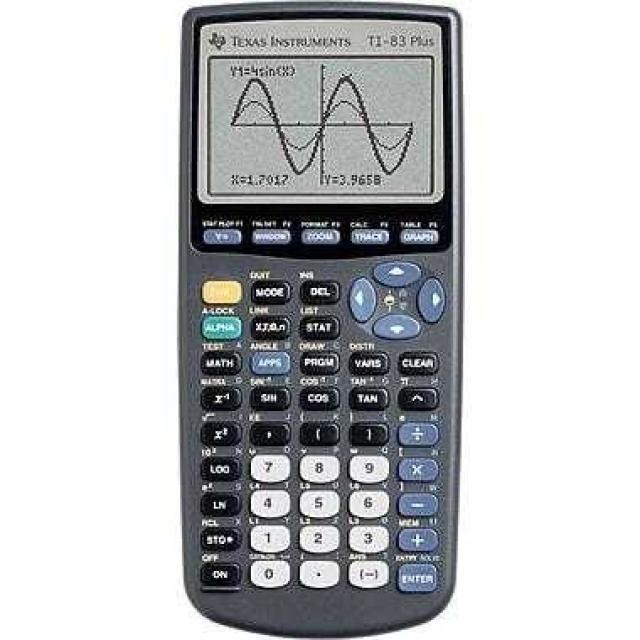Calculator: (179, 3, 461, 633)
